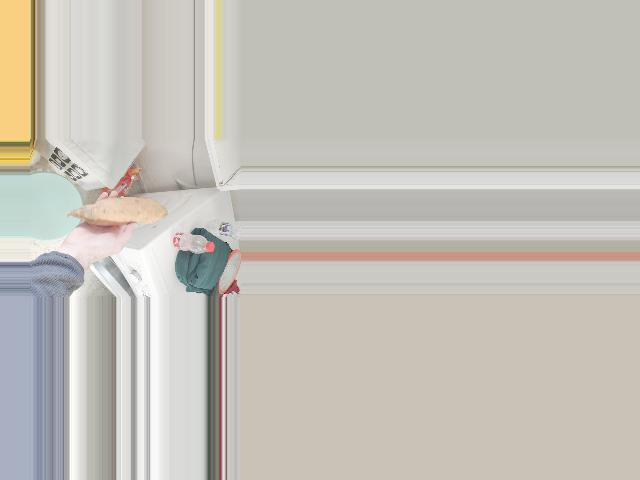sweet_potato: (87, 201, 155, 232)
